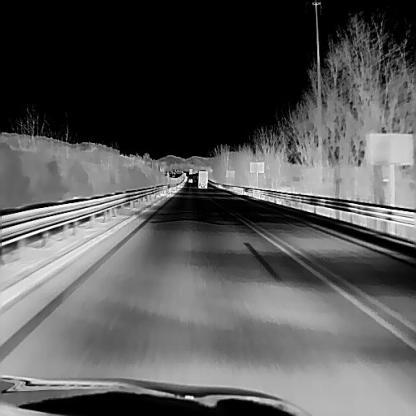car: (197, 168, 208, 188), (187, 175, 192, 182)
